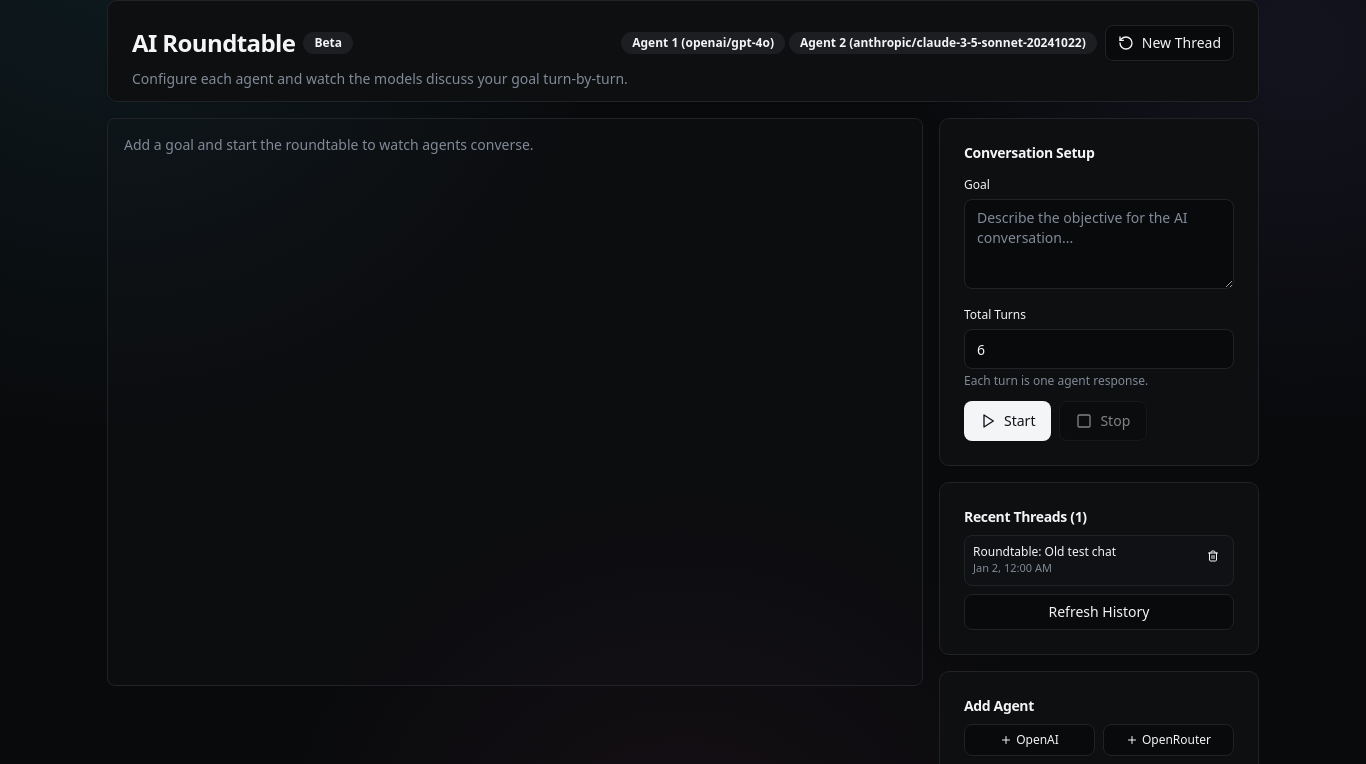
Test: AIRoundtablePage history behavior › hydrates a saved Roundtable only after the user clicks a history item
Click the button "Roundtable: Old test chat".
click(1083, 560)  # box 973,544 -> 1193,576
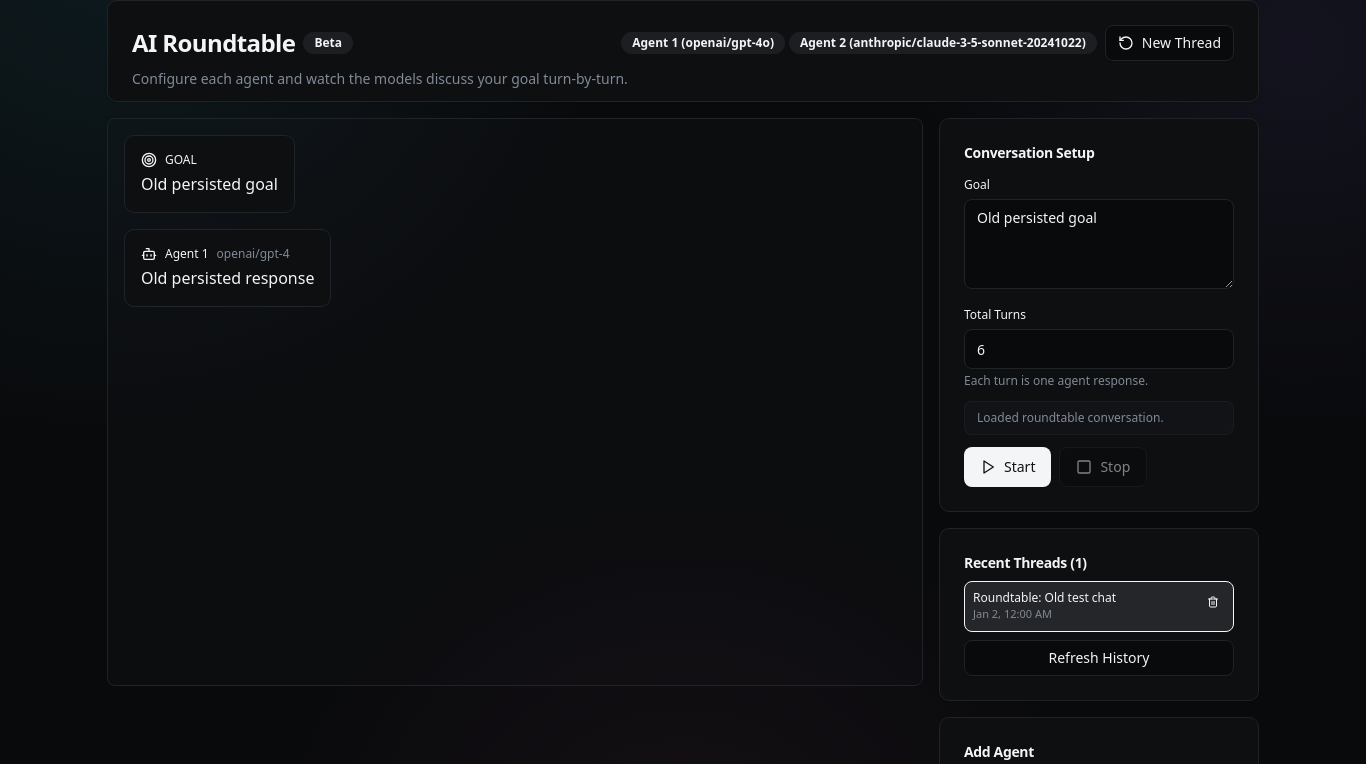
expect the text "Old persisted goal" is shown 2 times: met, box 141,172 -> 278,196; 964,199 -> 1234,289
expect the text "Old persisted response" is shown: met, box 141,266 -> 314,290
